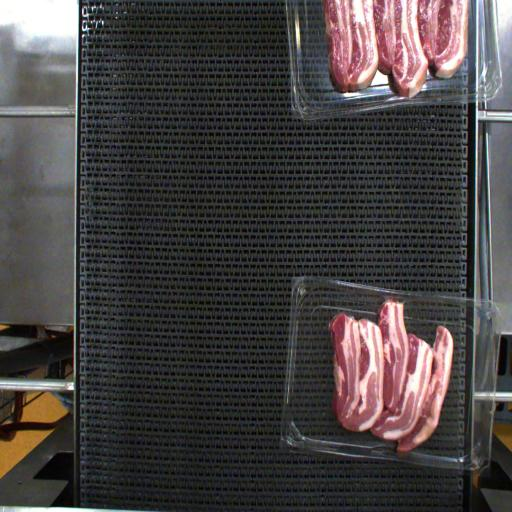packaging-error: (379, 287, 416, 316)
